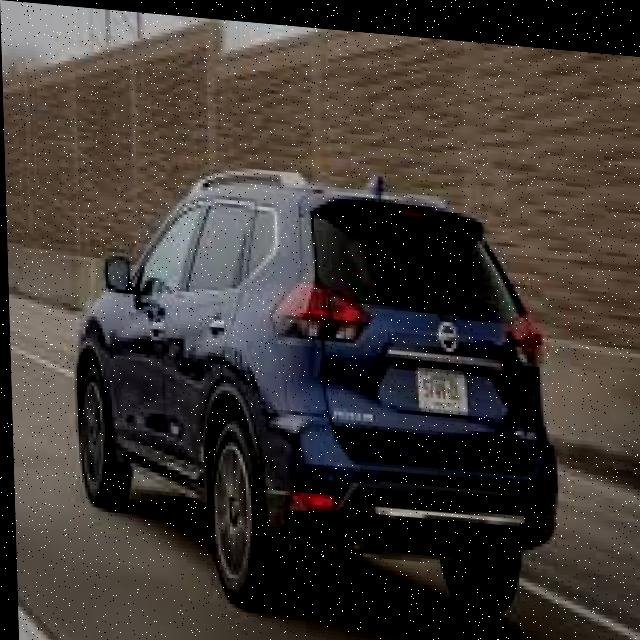car: (53, 176, 561, 623)
